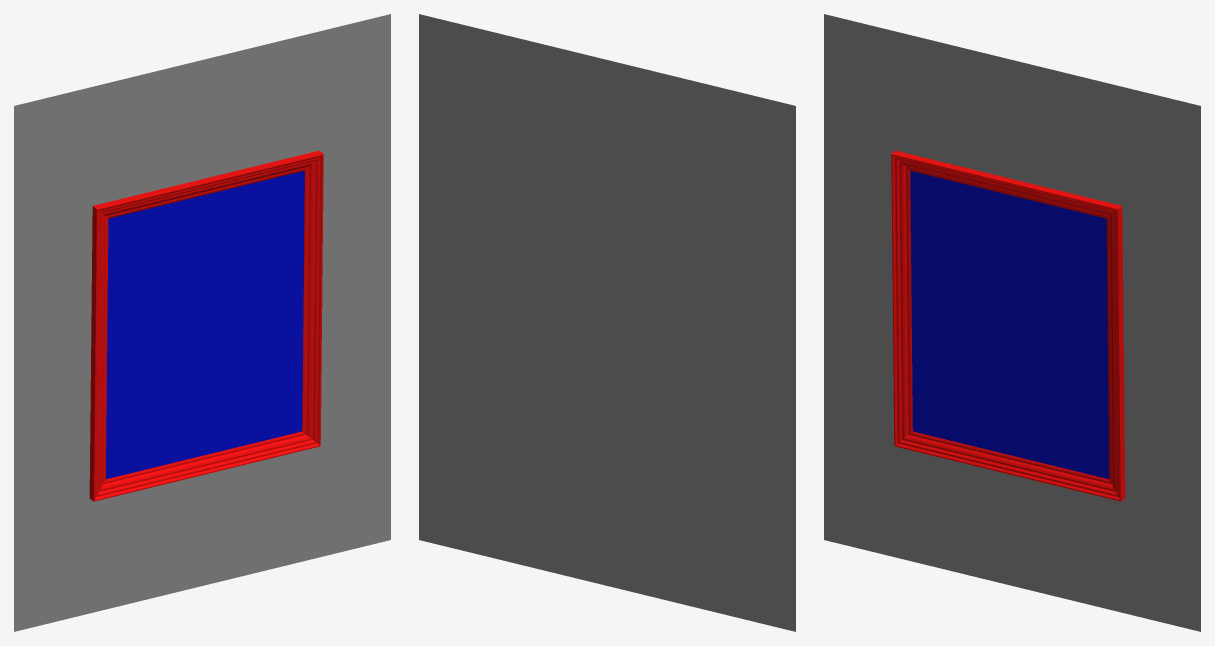
Rendered from Obraz01.fbx.
The picture shows the model from 3 angles, left to right: view 1: azimuth 30°, elevation 25°; view 2: azimuth 150°, elevation 25°; view 3: azimuth 330°, elevation 25°; orthographic projection.
Parts seen in each view (by area): view 1: Sciana, Szyba, RamaSplajn; view 2: Sciana; view 3: Sciana, Szyba, RamaSplajn.
Boxes of the visible parts, x1,y1,x2,y2 form: Sciana: (14,14,390,631); Szyba: (106,171,304,479); RamaSplajn: (89,150,323,501); Sciana: (419,14,795,631); Sciana: (824,14,1200,631); Szyba: (910,171,1108,479); RamaSplajn: (891,150,1125,501).
Bounding box in the file's own units: 150 × 200 × 5.46.
